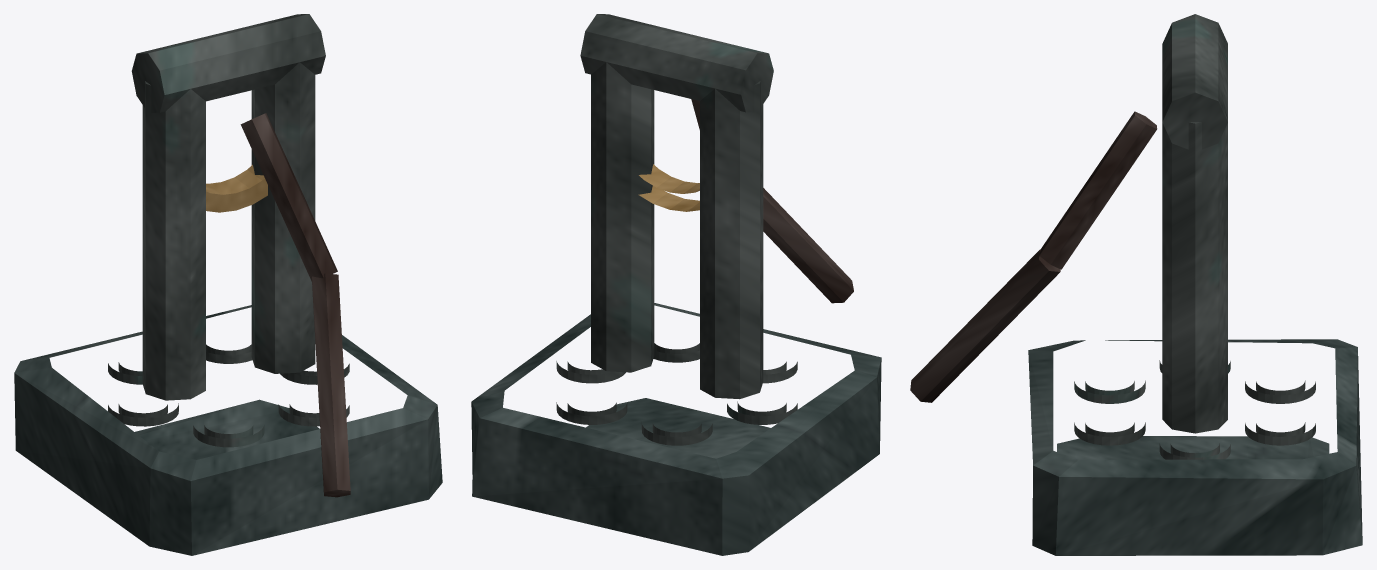
File: 0700_rope_anchor_25.glb
3 views of the same model, side by side, from view 1: azimuth 30°, elevation 25°; view 2: azimuth 150°, elevation 25°; view 3: azimuth 270°, elevation 25° (orthographic).
Parts seen in each view (by area): view 1: iron, stone_dark, wood_dark, brass; view 2: iron, stone_dark, wood_dark, brass; view 3: stone_dark, iron, wood_dark.
Part boxes in pixels (left/top/right/bottom): iron: left=108, top=14, right=349, bottom=447; stone_dark: left=14, top=305, right=442, bottom=555; wood_dark: left=240, top=113, right=350, bottom=497; brass: left=206, top=164, right=267, bottom=212; iron: left=556, top=14, right=797, bottom=445; stone_dark: left=471, top=303, right=881, bottom=555; wood_dark: left=691, top=99, right=853, bottom=303; brass: left=638, top=164, right=699, bottom=211; stone_dark: left=1028, top=339, right=1362, bottom=555; iron: left=1074, top=14, right=1315, bottom=459; wood_dark: left=910, top=111, right=1157, bottom=402.
Size of the model in its own units: 1.21 by 1.78 by 1.65.
4 materials, 4 textured.
